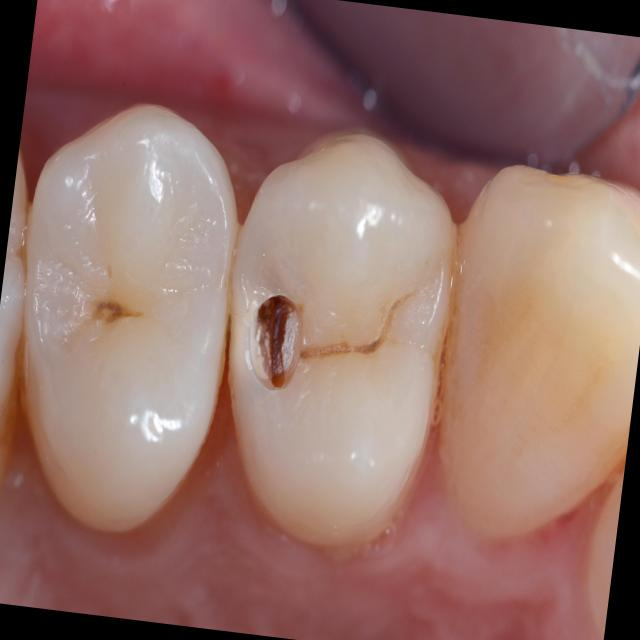Caries: (298, 294, 410, 361), (256, 296, 294, 387), (92, 303, 142, 322)
Cavity: (247, 294, 304, 391)
Tooth: (225, 135, 460, 544), (17, 101, 236, 536), (438, 164, 640, 536)
